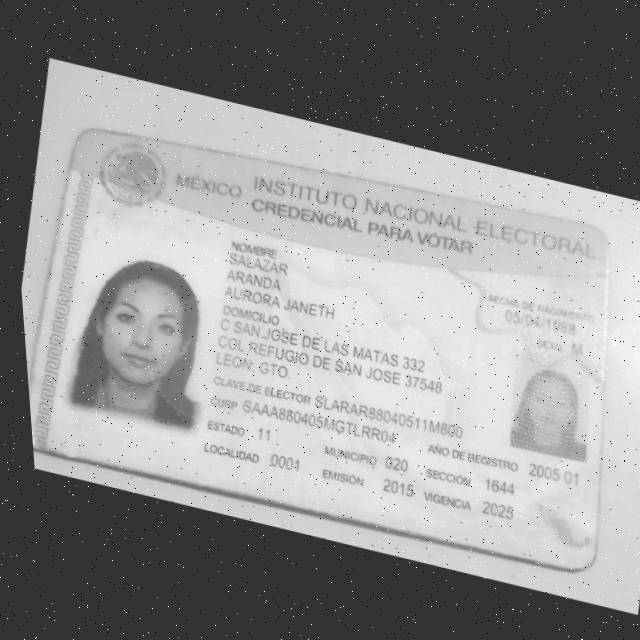card: (29, 130, 607, 570)
